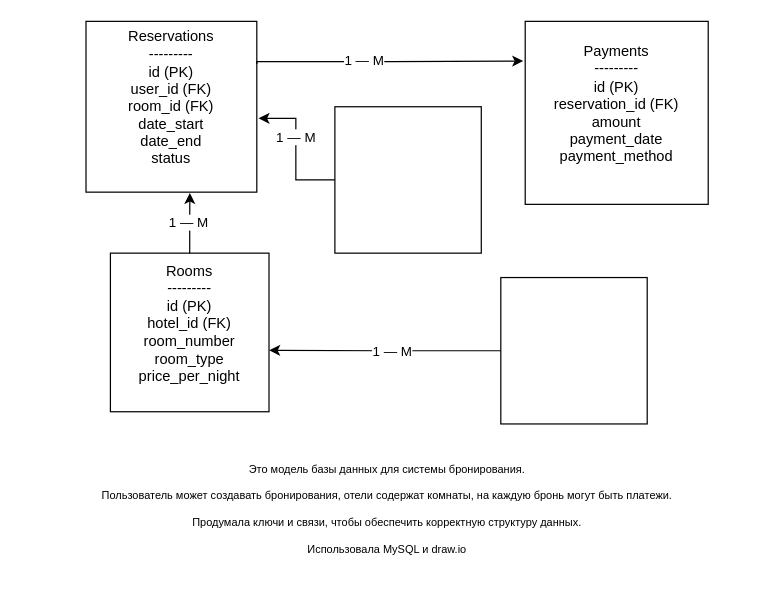
This 773x604 diagram has some shape labels left out. Here are the shapes that lost their labels. From the top down, the centre of each, then its label:
(407,179): Users --------- id (PK) name email phone
(573,350): Hotels --------- id (PK) hotel_name location
